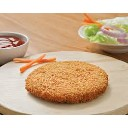cutlet: (26, 63, 111, 102)
